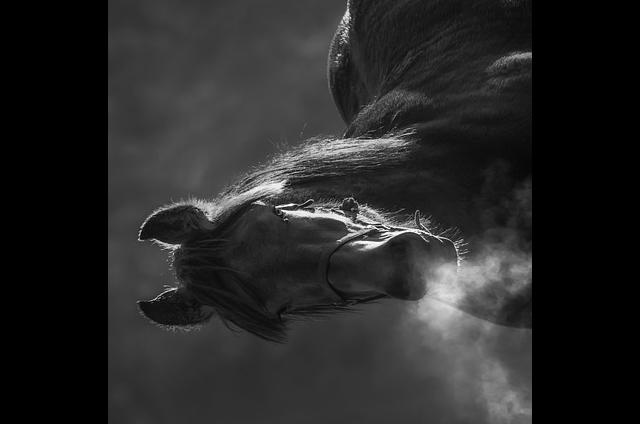Non_Gorille: (125, 0, 532, 362)
